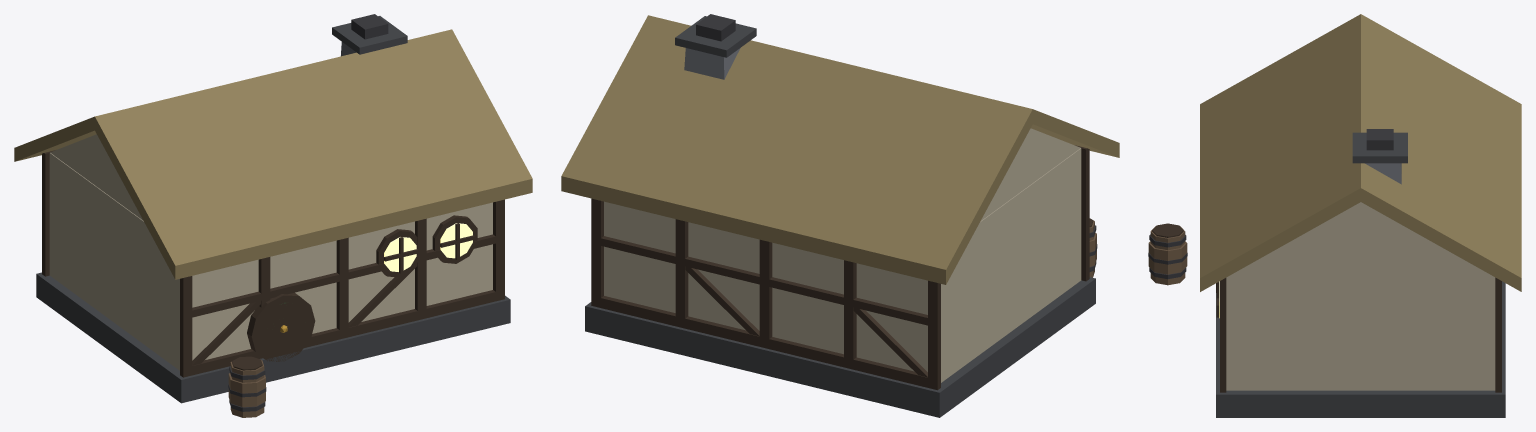
Rendered from bree_house_hobbit_1.glb.
The picture shows the model from 3 angles, left to right: view 1: azimuth 30°, elevation 25°; view 2: azimuth 150°, elevation 25°; view 3: azimuth 270°, elevation 25°; orthographic projection. The views are drawn at different scales.
Visible parts, largest first — view 1: bree_house_hobbit_1; view 2: bree_house_hobbit_1; view 3: bree_house_hobbit_1.
Boxes of the visible parts, left/top/right/bottom form: bree_house_hobbit_1: left=14, top=14, right=532, bottom=417; bree_house_hobbit_1: left=561, top=14, right=1119, bottom=417; bree_house_hobbit_1: left=1148, top=14, right=1521, bottom=417.
Size of what is drawn, in the model's own units: 6.4 by 4.37 by 5.81.
